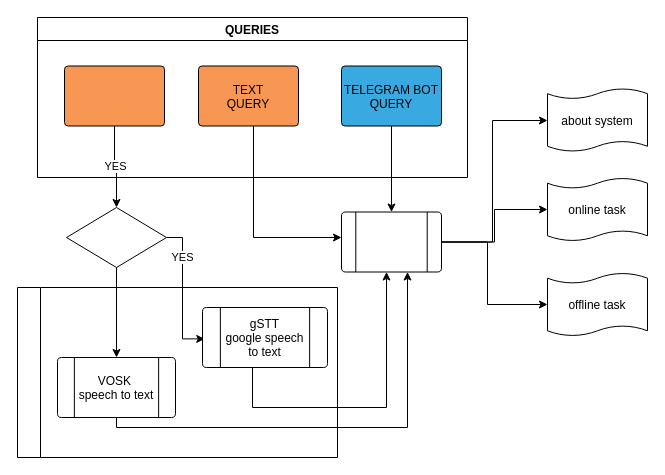
Some shapes in this 665 by 475 pixel diagram are drawn without their labels. The centre of each missing label's shape, as x and y in pixels:
"IDENTIFY QUERY" belongs at point 391,241.
"is Online" belongs at point 116,237.
"SPEECH QUERY" belongs at point 114,95.
"SPEECH RECOGNITION" belongs at point 177,372.
